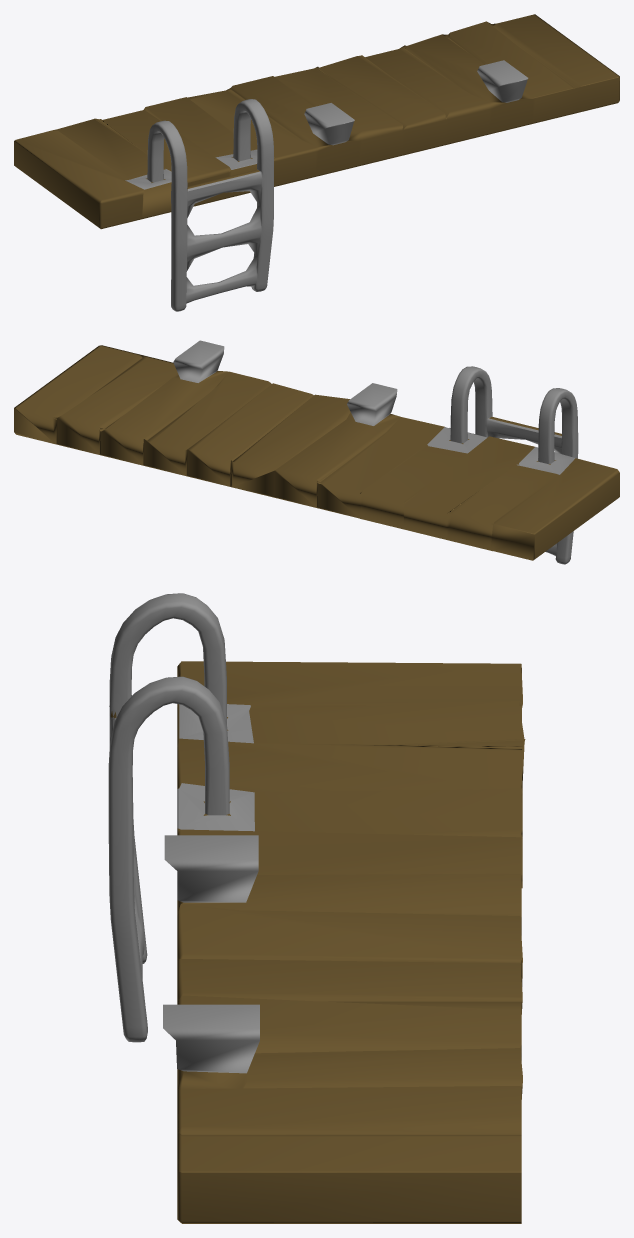
The model's file is dockMapped.fbx.
3 views of the same model, one above another, from view 1: azimuth 30°, elevation 25°; view 2: azimuth 150°, elevation 25°; view 3: azimuth 270°, elevation 25° (orthographic). The views are drawn at different scales.
Parts seen in each view (by area): view 1: WoodPlanks; view 2: WoodPlanks; view 3: WoodPlanks.
Boxes of the visible parts, x1,y1,x2,y2 form: WoodPlanks: (14,14,619,311); WoodPlanks: (14,340,619,564); WoodPlanks: (108,593,525,1223).
Bounding box in the file's own units: 8 × 2.66 × 2.77.
